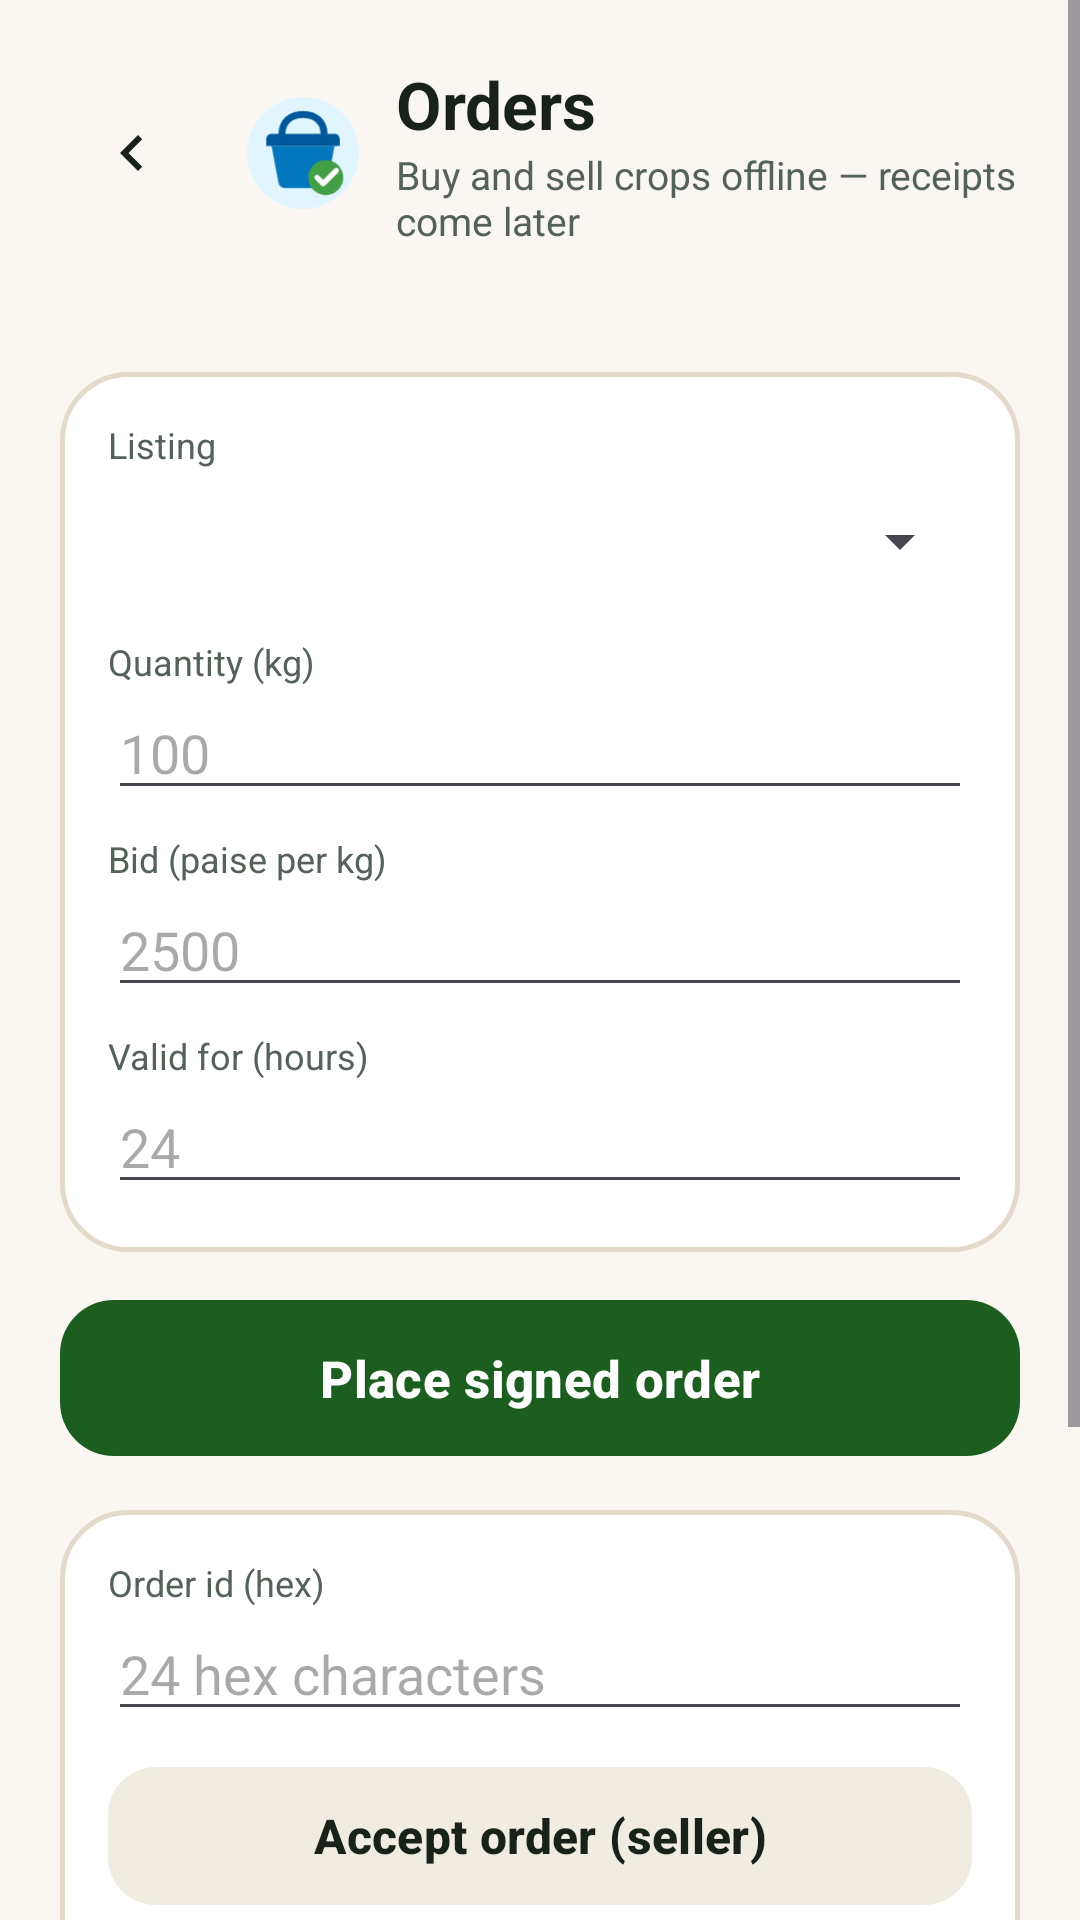

Where icons sit on this 1080x1920 app screen, as box(x1, y1, x2, y2):
Back: box(120, 135, 142, 171)
